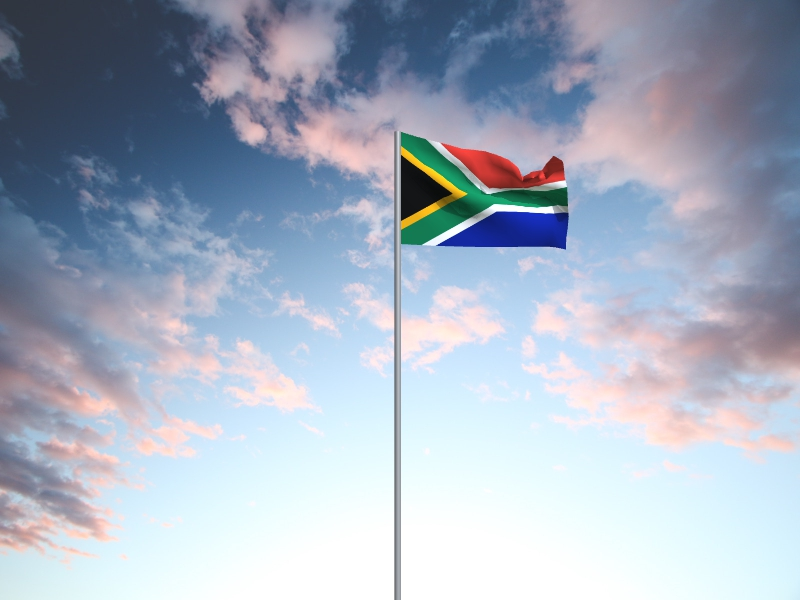za: (401, 132, 569, 253)
